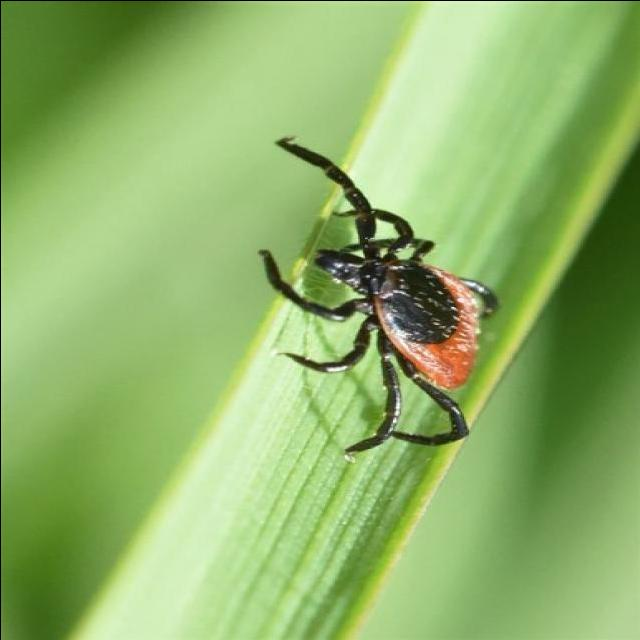Ixodes Ricinus-F: (258, 134, 501, 457)
